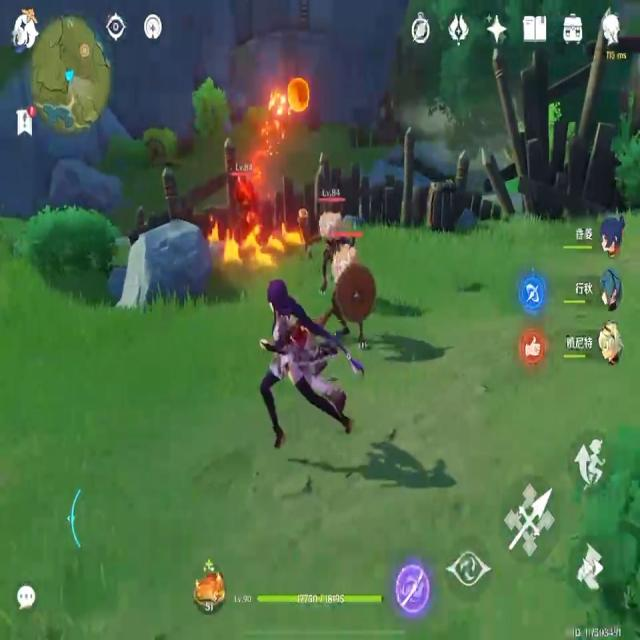genshin-hilichurls: (330, 240, 376, 347), (299, 196, 347, 286), (228, 159, 272, 237)
